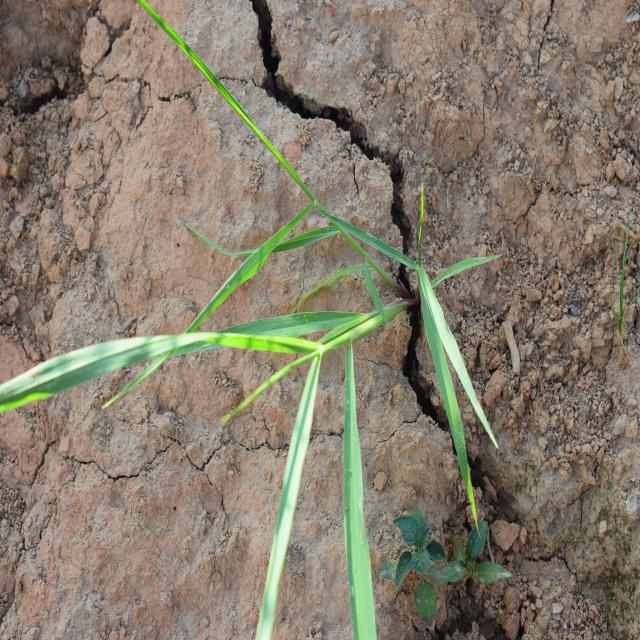green_foxtail: (86, 123, 467, 521)
